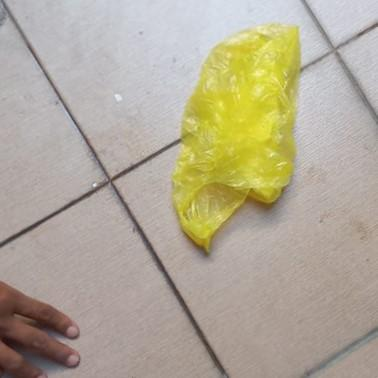Plastik: (171, 24, 302, 254)
